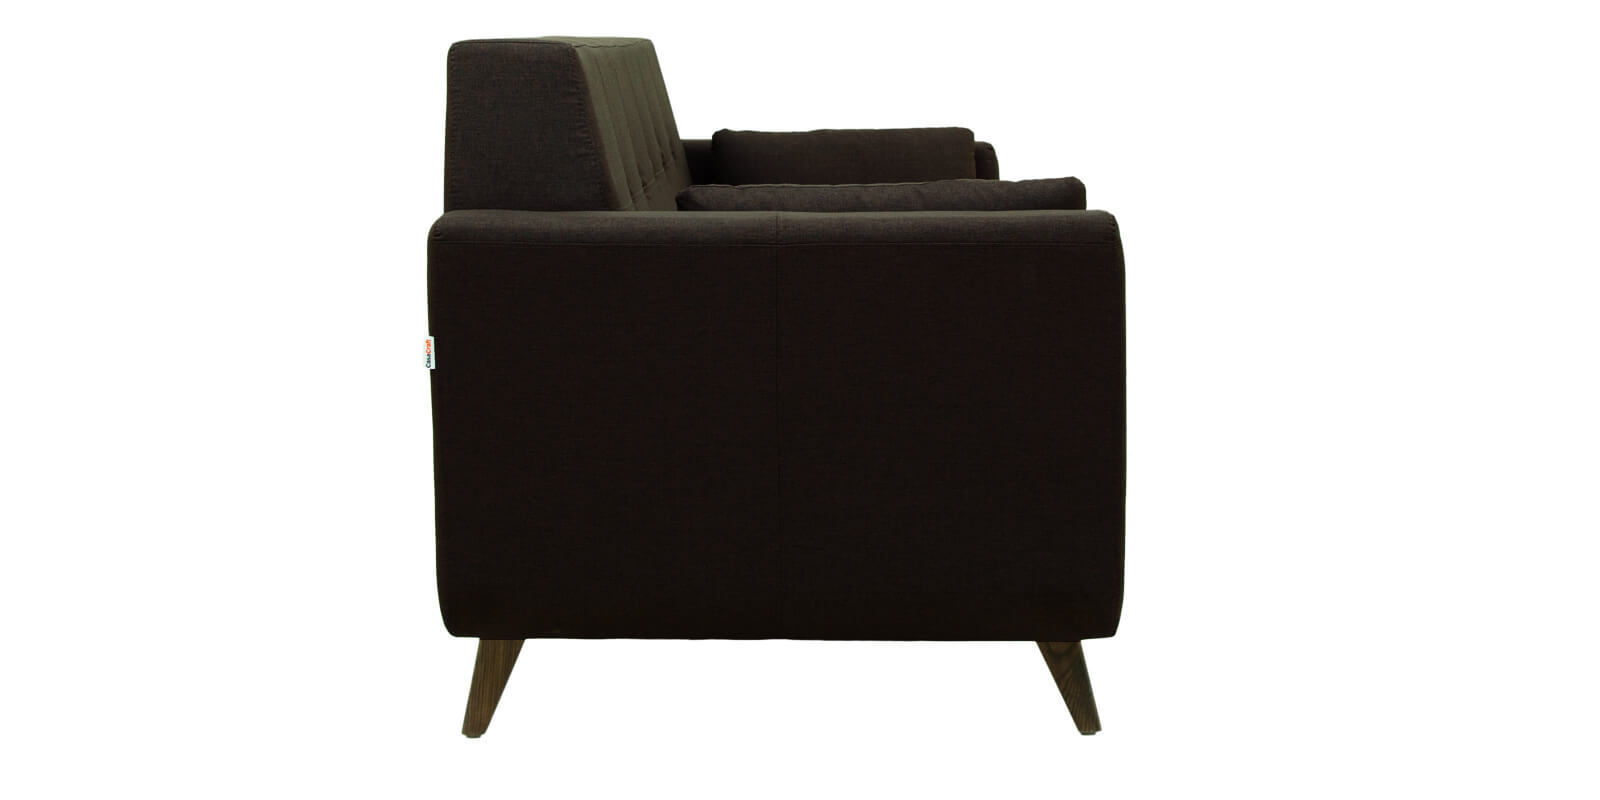Brass Three Seater Sofa in Dark Grey Colour by Furniture Mind: (409, 36, 1145, 680)
